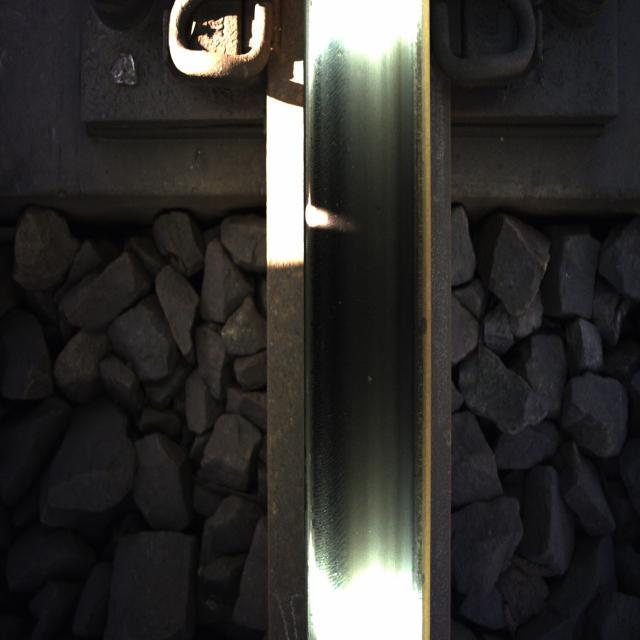break: (305, 35, 427, 580)
